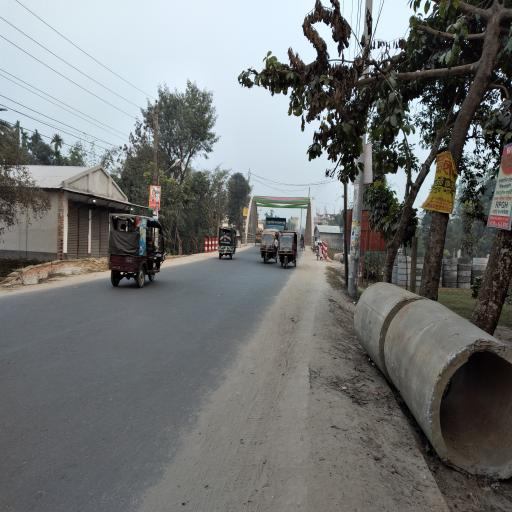auto rickshaw: (107, 212, 163, 290), (280, 231, 299, 271), (261, 229, 280, 267), (220, 227, 238, 262)
bicycle: (300, 240, 305, 253)
pickup: (266, 217, 289, 231)
rickshaw: (256, 228, 262, 246)
